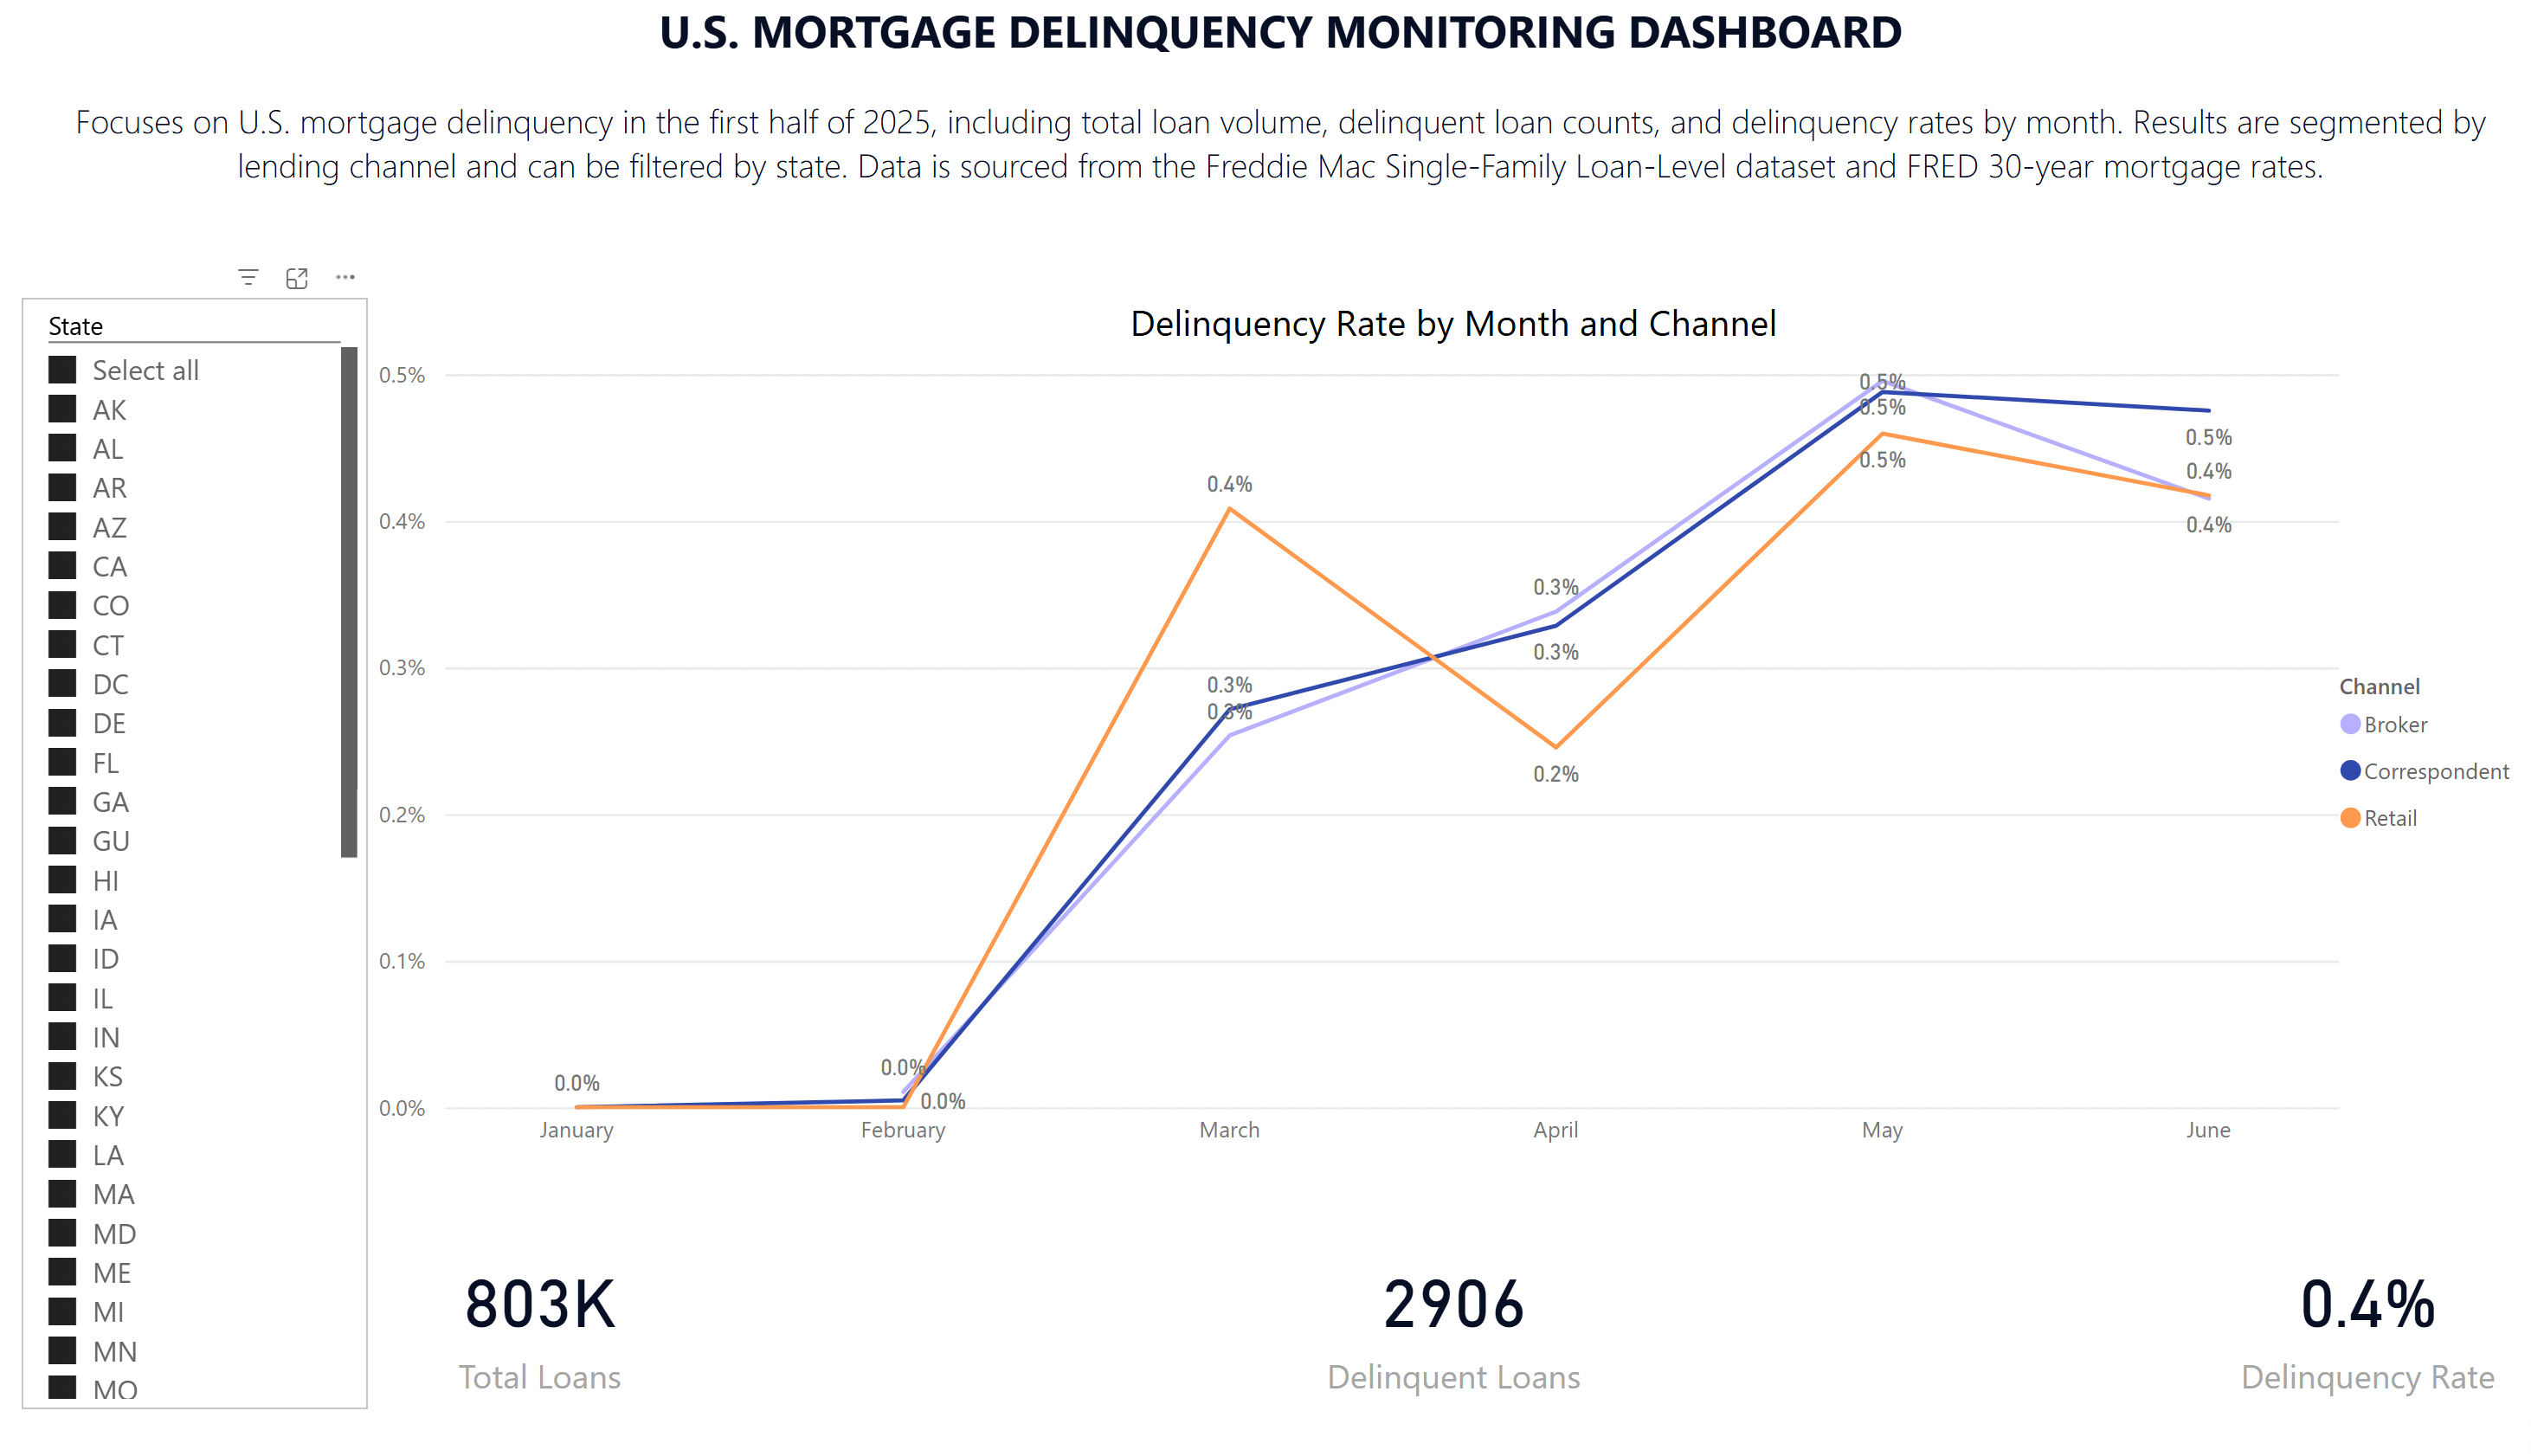

The dashboard page shown, as its layout file describes it:
{"tool":"powerbi","page":{"name":"Page 1","canvas":[1280,720],"ordinal":0},"visuals":[{"type":"lineChart","title":"Delinquency Rate by Month and Channel","fields":{"Category":["fct_delinquency_monthly.reporting_month.Variation.Date Hierarchy.Year","fct_delinquency_monthly.reporting_month.Variation.Date Hierarchy.Quarter","fct_delinquency_monthly.reporting_month.Variation.Date Hierarchy.Month","fct_delinquency_monthly.reporting_month.Variation.Date Hierarchy.Day"],"Y":["fct_delinquency_monthly.Delinquency Rate"],"Series":["fct_delinquency_monthly.Channel Full"]},"box":[228,149.6,1051.6,419.9],"z":0},{"type":"slicer","fields":{"Values":["fct_delinquency_monthly.property_state"]},"box":[60.4,149.6,167.6,538],"z":1000},{"type":"card","fields":{"Values":["fct_delinquency_monthly.Delinquent Loans"]},"box":[659.6,569.5,188.3,150.5],"z":2000},{"type":"card","fields":{"Values":["fct_delinquency_monthly.Total Loans"]},"box":[228,569.5,166.7,150.5],"z":3000},{"type":"card","fields":{"Values":["fct_delinquency_monthly.Delinquency Rate"]},"box":[1112.9,569.5,166.7,150.5],"z":4000},{"type":"textbox","box":[60.4,0,1219.2,149.6],"z":5000}]}

Visuals, with their boxes in screenshot pixels (x1, y1, x2, y2), scaled from the page's 1280x720 canvas onto the 2531x1456 screenshot:
"Delinquency Rate by Month and Channel" lineChart: 451:302:2530:1151
slicer - fct_delinquency_monthly.property_state: 119:302:451:1390
card - fct_delinquency_monthly.Delinquent Loans: 1304:1151:1677:1455
card - fct_delinquency_monthly.Total Loans: 451:1151:781:1455
card - fct_delinquency_monthly.Delinquency Rate: 2200:1151:2530:1455
textbox: 119:0:2530:302
